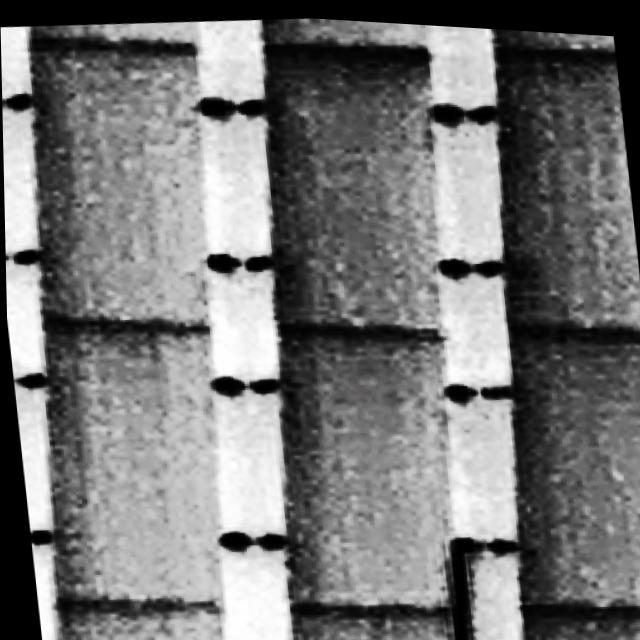Hotspots: (636, 521, 640, 576)
PV-modules: (35, 322, 216, 611), (23, 39, 203, 324), (280, 325, 455, 609), (271, 41, 438, 331), (498, 42, 640, 329), (509, 326, 640, 607), (282, 598, 455, 640), (31, 11, 195, 52), (48, 600, 215, 640), (271, 13, 426, 55), (525, 599, 640, 640), (517, 24, 614, 52)
